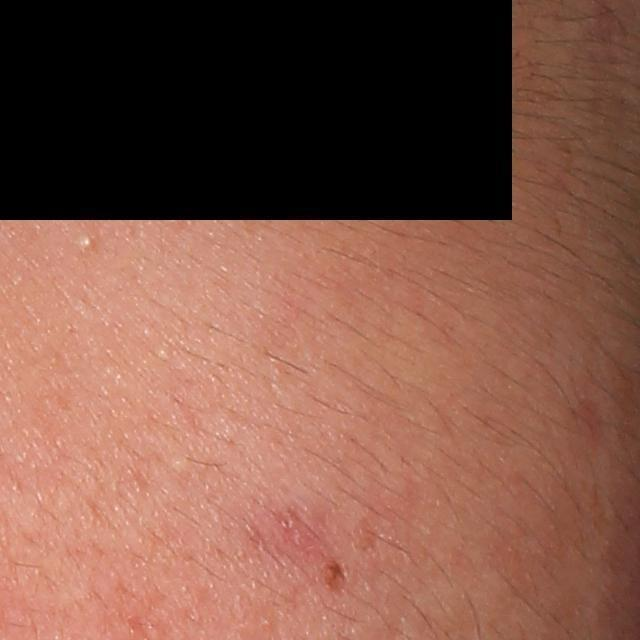comedo: (74, 229, 96, 255)
nevus: (318, 560, 348, 597)
